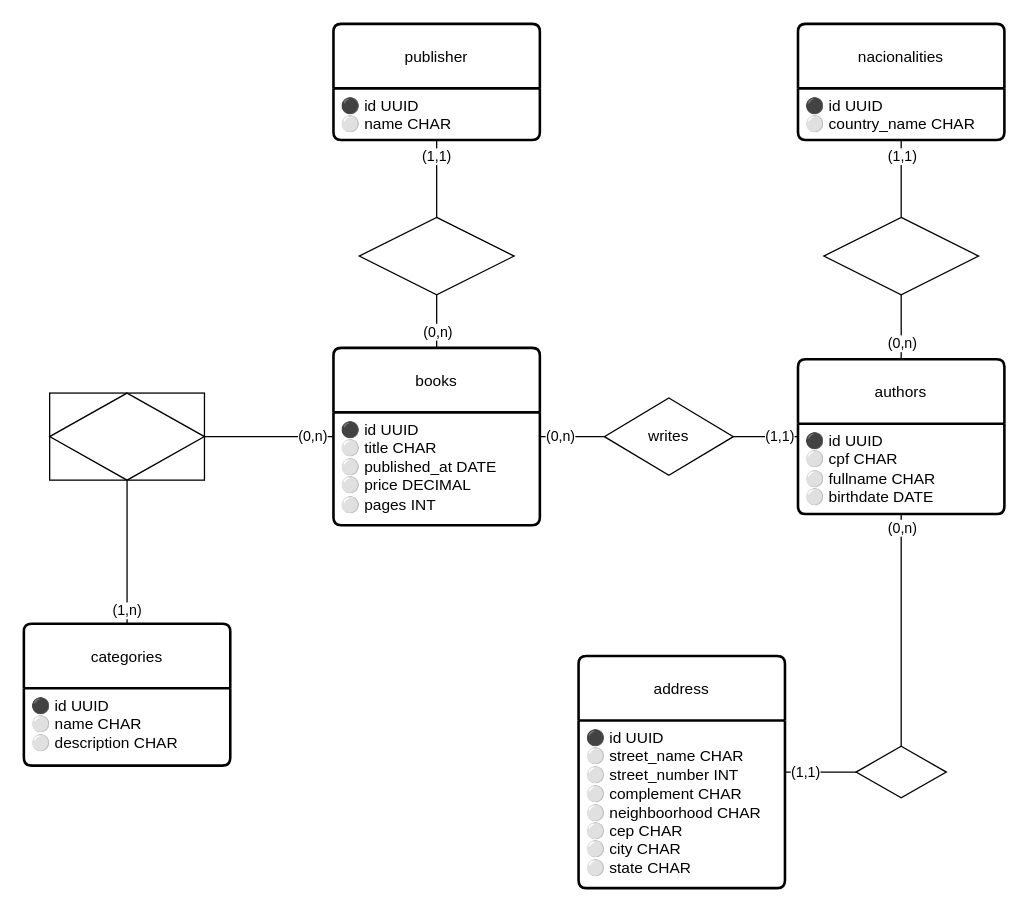
This 1028x911 diagram has some shape labels left out. The shapes that lost their labels are listed below. From the top down, each one's centre as x and y in pixels, then its label:
At (x=436, y=255): "publishes".
At (x=901, y=255): "belongs".
At (x=126, y=436): "categorizes".
At (x=900, y=771): "lives".
